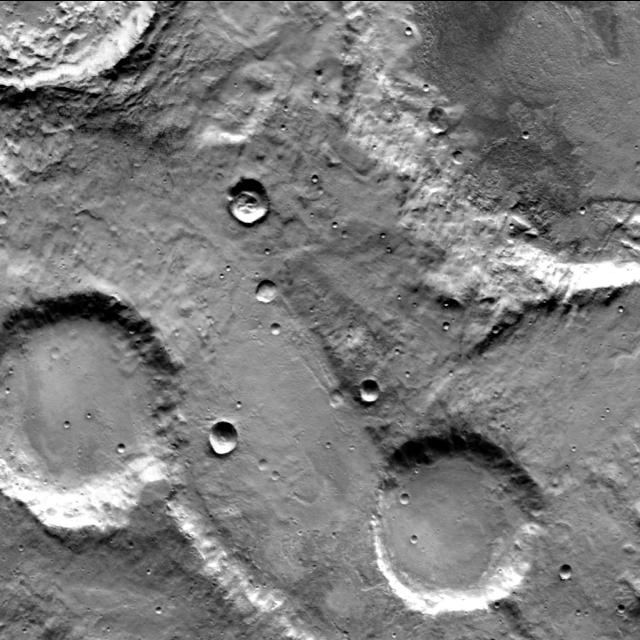crater: (164, 170, 640, 640), (0, 299, 180, 532), (368, 436, 540, 624), (196, 78, 260, 148), (226, 186, 266, 230), (274, 222, 306, 256), (204, 428, 234, 460), (424, 112, 446, 138), (90, 622, 120, 640), (358, 384, 378, 408), (254, 286, 274, 308), (327, 396, 341, 412), (558, 571, 570, 585), (449, 158, 460, 170), (398, 500, 408, 512), (269, 330, 279, 342), (50, 356, 60, 368), (256, 466, 266, 476), (115, 450, 124, 460), (270, 478, 278, 488), (312, 76, 320, 85), (616, 610, 624, 619), (402, 33, 410, 41), (490, 332, 498, 340), (308, 100, 316, 108), (409, 542, 416, 550), (323, 184, 330, 192), (70, 229, 77, 237), (585, 206, 591, 214), (520, 136, 526, 144), (62, 426, 68, 434), (128, 331, 134, 339), (448, 322, 454, 329), (160, 606, 167, 612), (427, 83, 432, 90)
